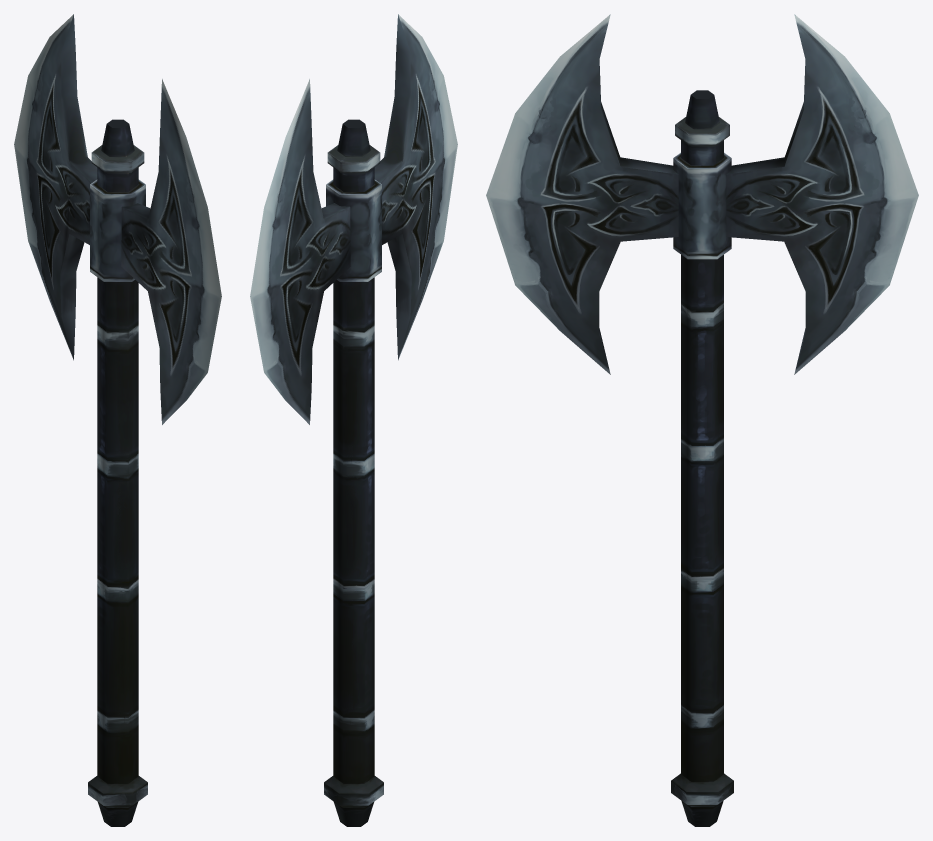
The model's file is Axe03_mesh.FBX.
The picture shows the model from 3 angles, left to right: view 1: azimuth 30°, elevation 25°; view 2: azimuth 150°, elevation 25°; view 3: azimuth 270°, elevation 25°; orthographic projection. The views are drawn at different scales.
Parts seen in each view (by area): view 1: Axe03_mesh; view 2: Axe03_mesh; view 3: Axe03_mesh.
Boxes of the visible parts, box(x1,y1,x2,y2) form: Axe03_mesh: box(14, 14, 221, 826); Axe03_mesh: box(250, 14, 457, 826); Axe03_mesh: box(486, 14, 918, 826).
Bounding box in the file's own units: 2.46 × 40.36 × 19.6.
